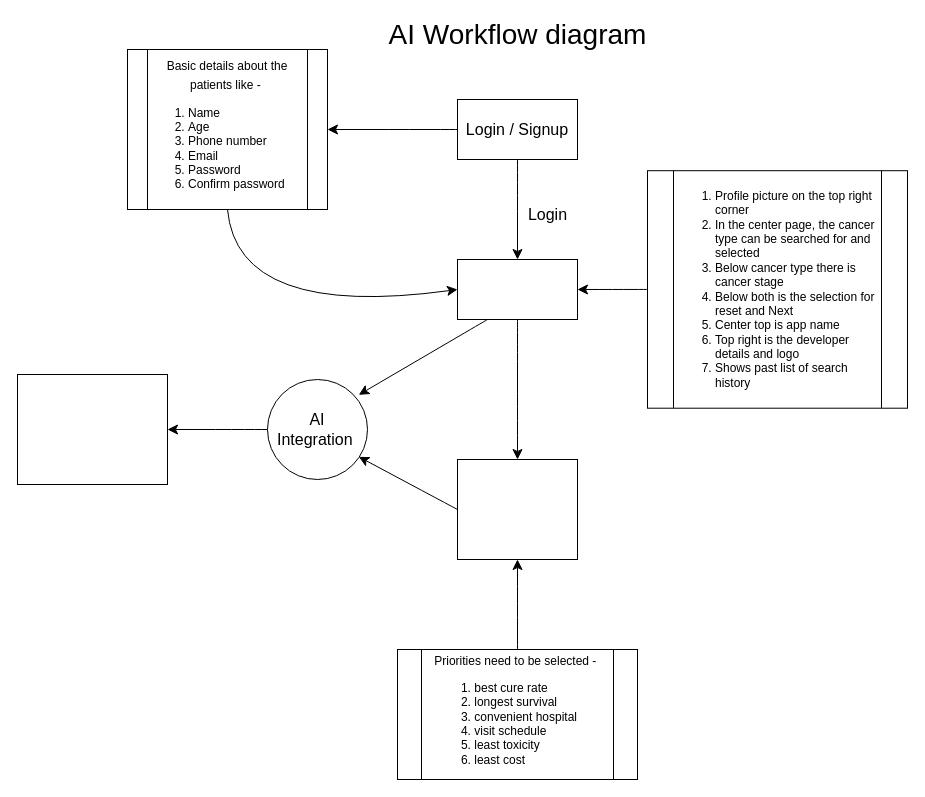
This 925x797 diagram has some shape labels left out. The centre of each missing label's shape, as x and y in pixels:
"Check the priorities of the user and rate them from 1-6" goes at (x=517, y=509).
"Gives patient priority wise options of treatment, hospital, toxicity etc." goes at (x=92, y=429).
"Home page" goes at (x=517, y=289).
